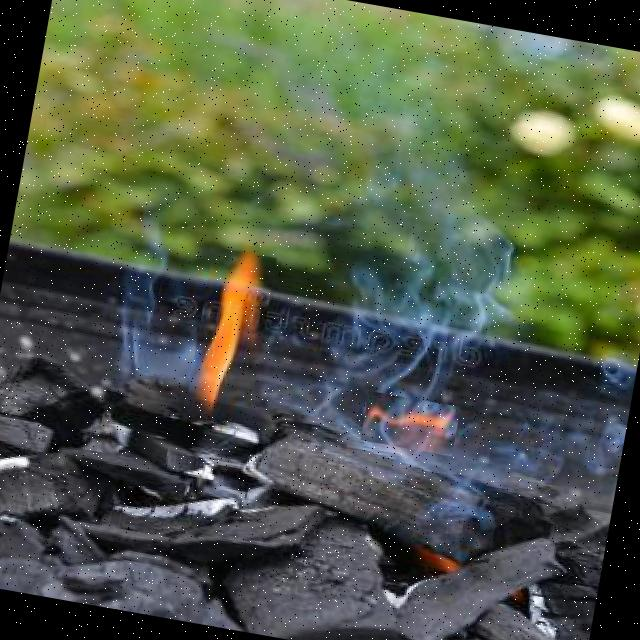fire: (186, 246, 276, 408), (360, 390, 460, 456)
